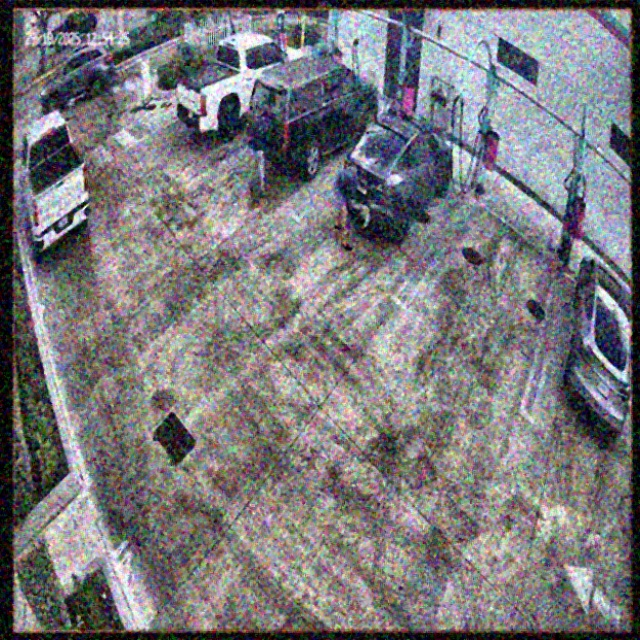Car: (249, 59, 378, 177), (348, 108, 451, 237)
